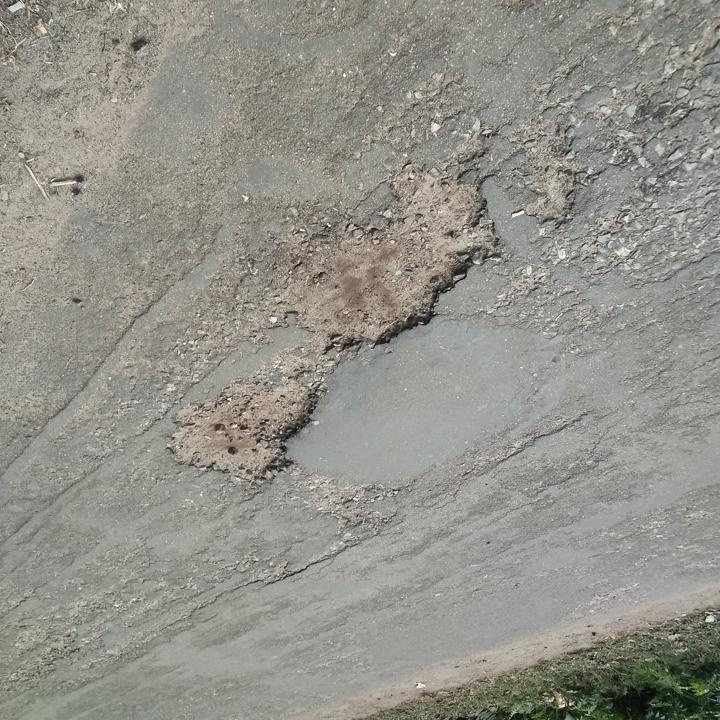pothole: (268, 173, 497, 353), (157, 367, 330, 490), (522, 161, 580, 222)
